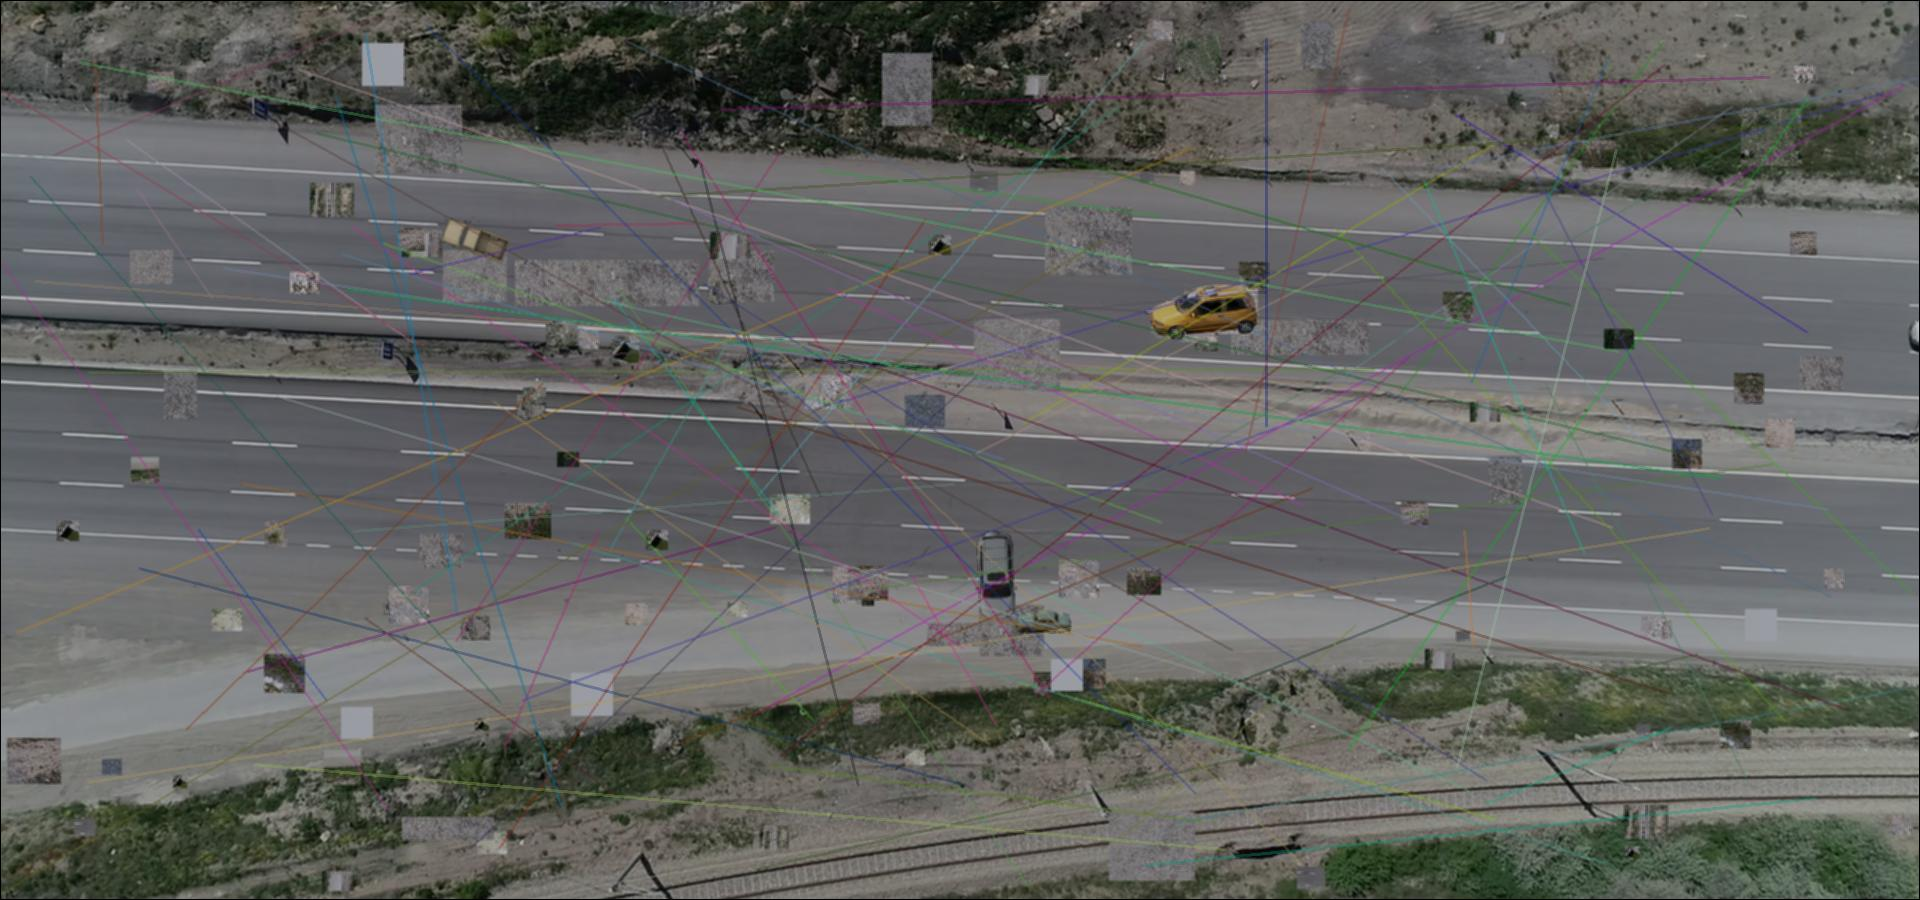arac: (1151, 285, 1262, 339), (973, 530, 1018, 618), (441, 217, 509, 262), (1014, 609, 1071, 633)
